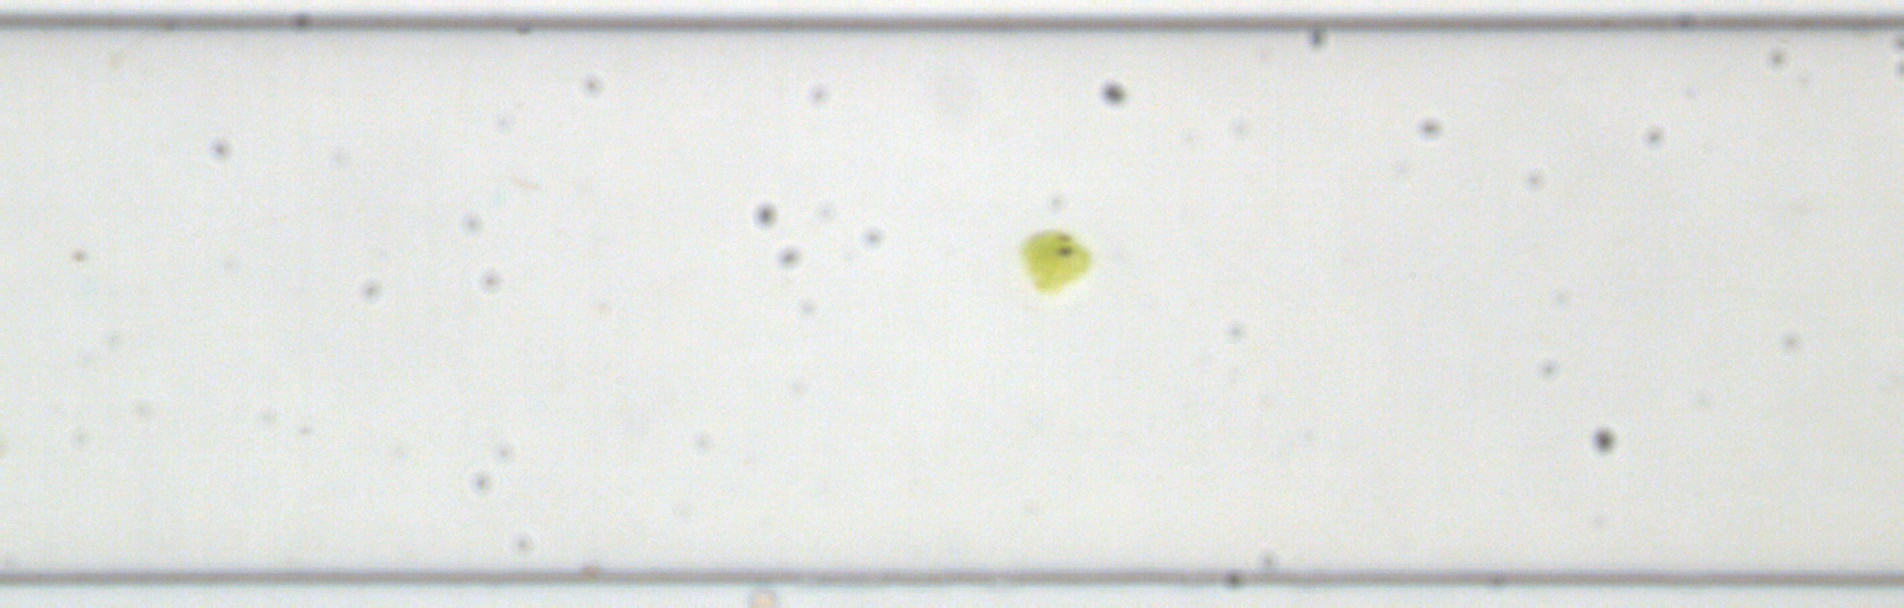Chlorella: (67, 248, 87, 265)
Haematococcus: (1014, 223, 1096, 297)
